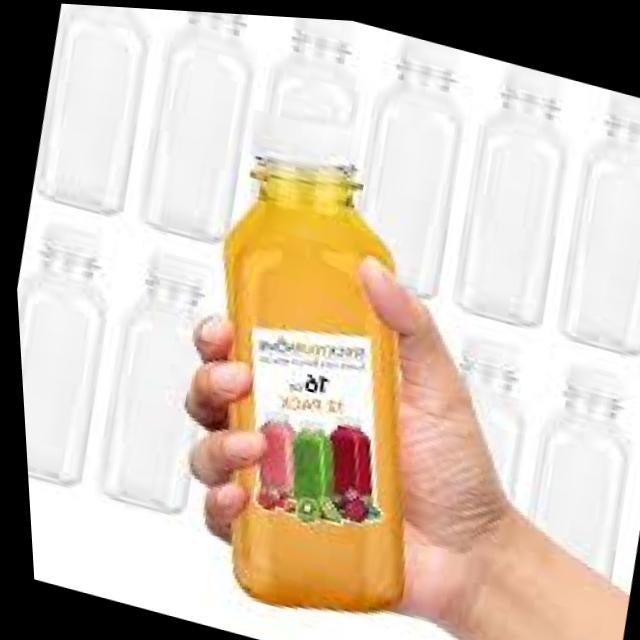Botella: (153, 94, 501, 640)
